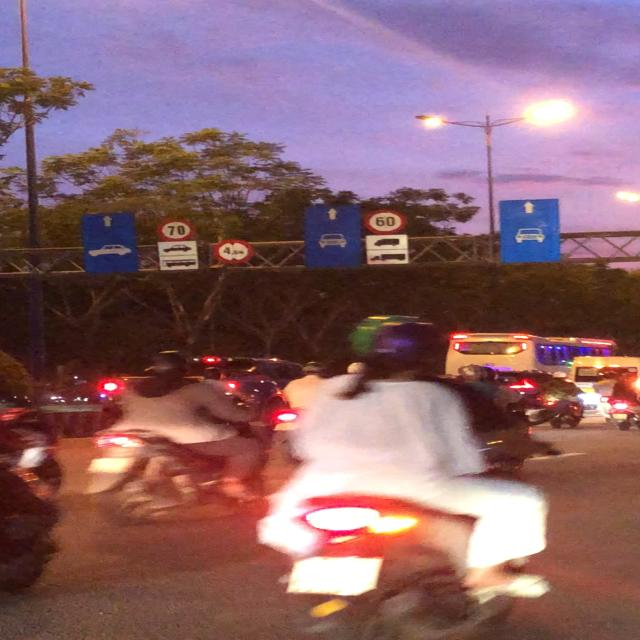Bien bao han che chieu cao: (208, 239, 265, 267)
Bien bao toc do toi da cho phep: (361, 208, 413, 236), (157, 216, 198, 244)
